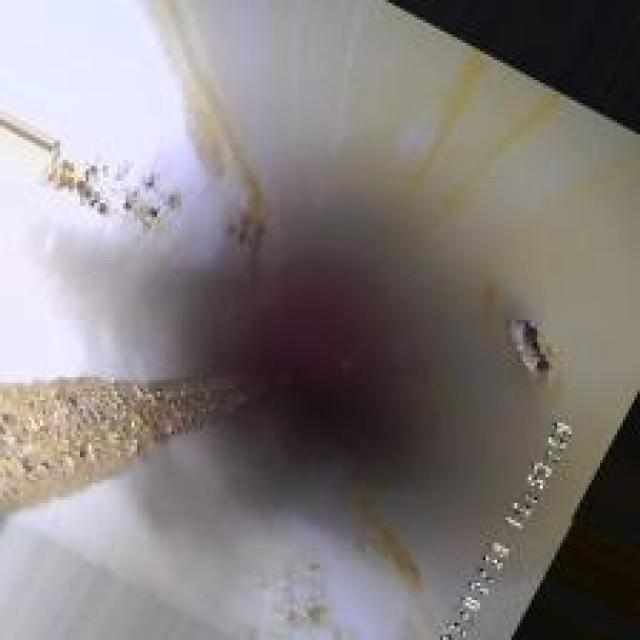ferrule: (497, 303, 557, 380)
